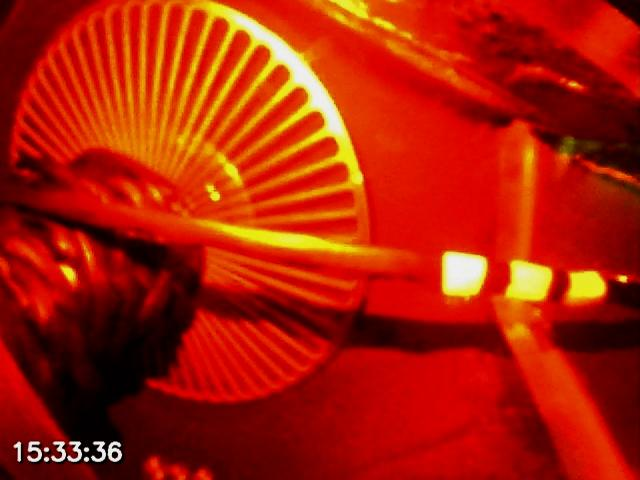white-dots: (440, 250, 609, 306)
